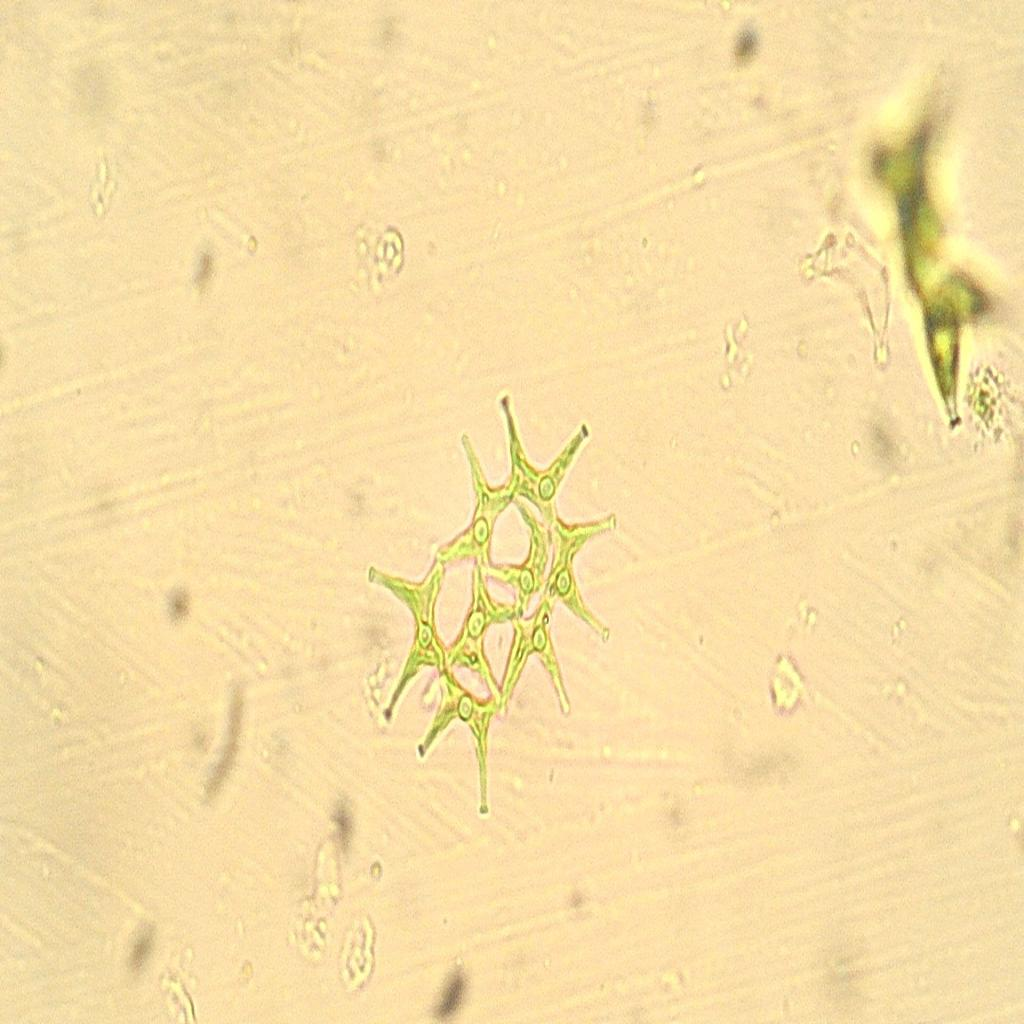Pediastrum_CFI: (356, 374, 633, 832)
